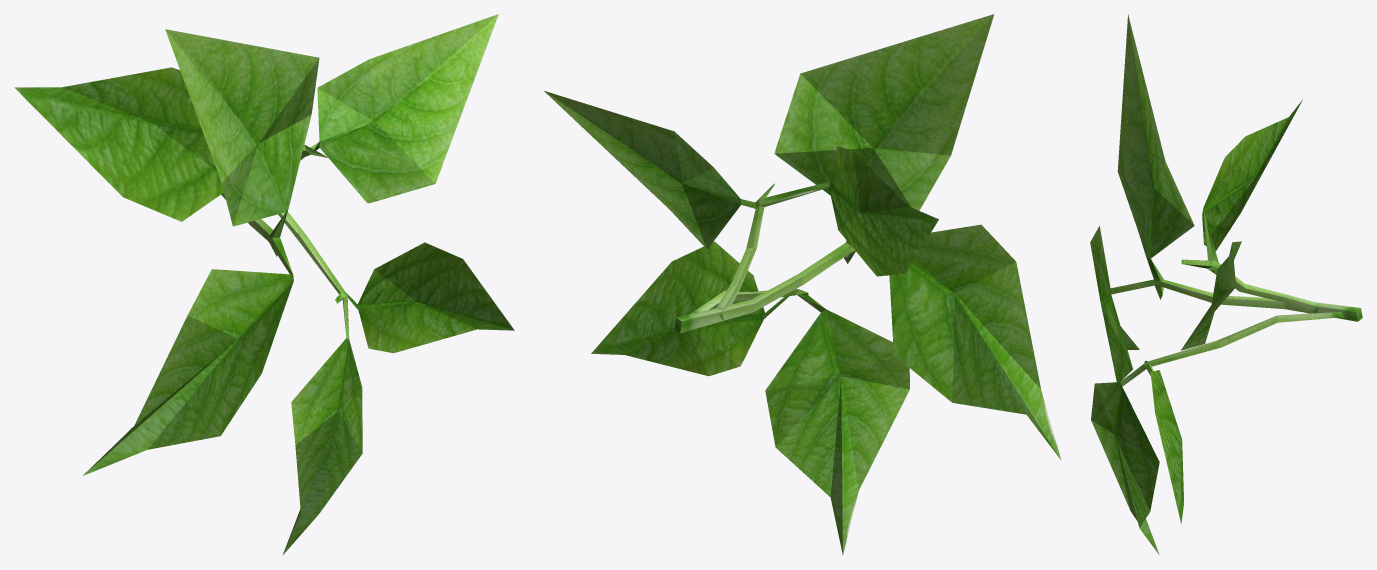
File: bean_small.obj
The picture shows the model from 3 angles, left to right: view 1: azimuth 30°, elevation 25°; view 2: azimuth 150°, elevation 25°; view 3: azimuth 270°, elevation 25°; orthographic projection. The views are drawn at different scales.
Parts seen in each view (by area): view 1: bean_small_unit.001_Plane.006; view 2: bean_small_unit.001_Plane.006; view 3: bean_small_unit.001_Plane.006.
Boxes of the visible parts, left/top/right/bottom form: bean_small_unit.001_Plane.006: left=14, top=14, right=514, bottom=555; bean_small_unit.001_Plane.006: left=544, top=14, right=1061, bottom=554; bean_small_unit.001_Plane.006: left=1090, top=14, right=1362, bottom=554.
Size of the model in its own units: 0.0984 by 0.1139 by 0.058.
Materials: 1 (1 with a texture image).
